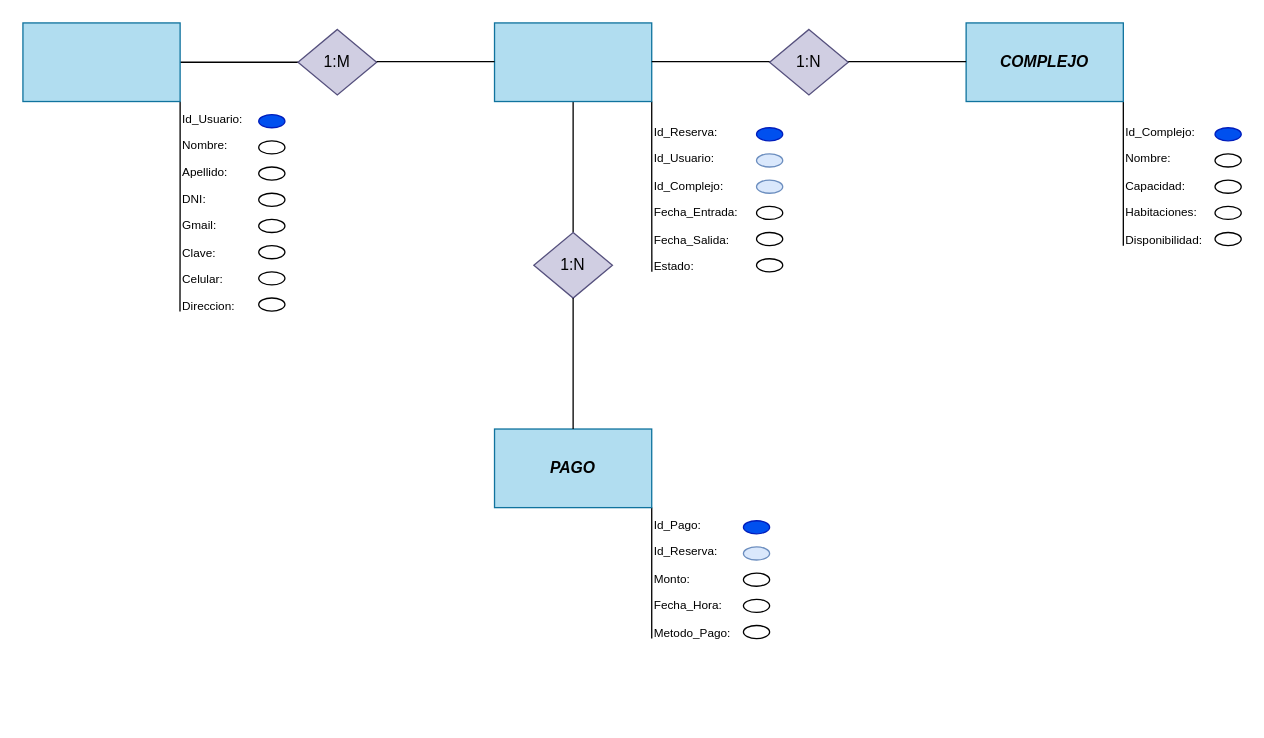
The diagram is 1264 pixels wide and 738 high, and some of its shapes have lost their labels. The centre of each missing label's shape, as x and y in pixels:
"RESERVA" goes at point (572, 62).
"USUARIO" goes at point (101, 62).
